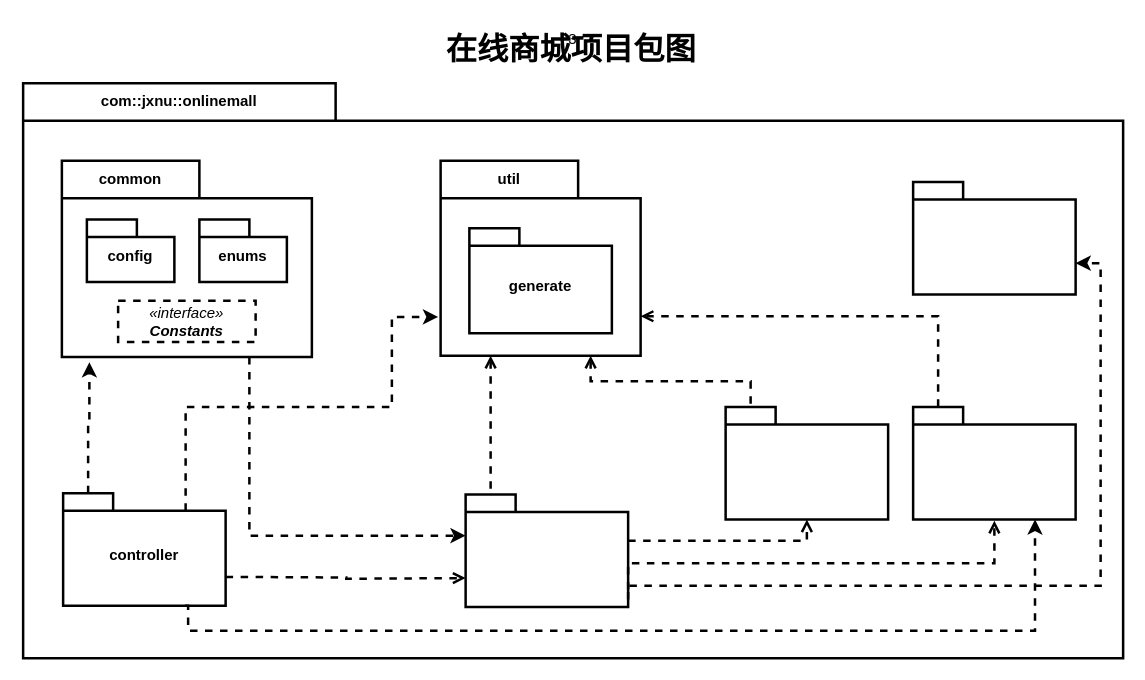
Image size: 1145x680. Some labels were removed from this diagram. The shapes that lost their labels are listed below. From the top down, each one's centre as x and y in pixels, then its label:
pixel 993 237: exception
pixel 806 462: mapper
pixel 993 462: entity
pixel 546 550: service
